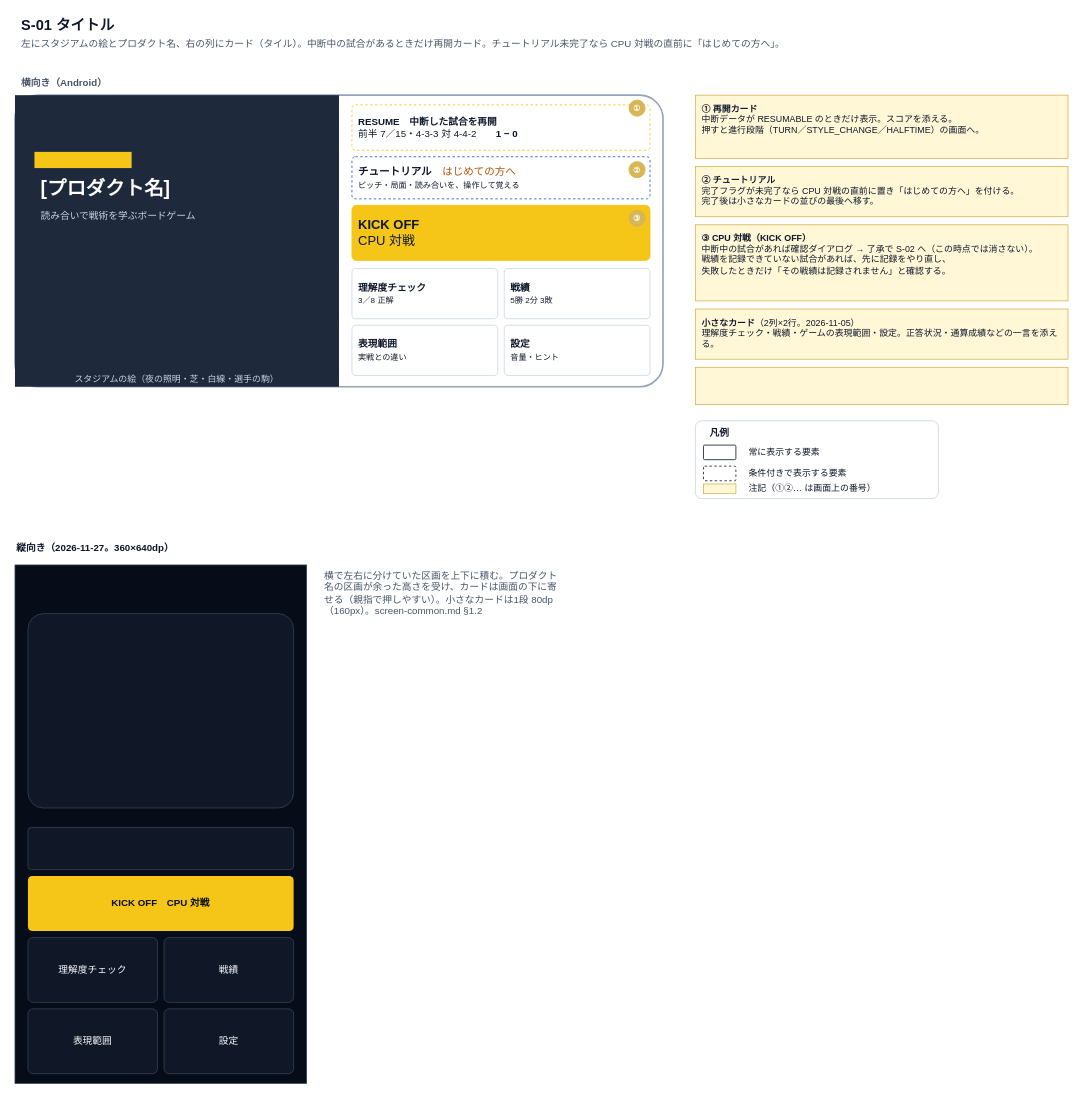
This 1082x1098 diagram has some shape labels left out. The centre of each missing label's shape, as x and y in pixels:
"MATCHDAY TACTICS" belongs at point (82, 159).
"MATCHDAY TACTICS SOCCER GAME 読み合いで戦術を学ぶボードゲーム （余った高さを受ける）" belongs at point (160, 710).
"チュートリアル はじめての方へ" belongs at point (160, 848).
"起動画面 起動時の読み込み中だけ、ロゴのみの画面を出してからこの画面へ。" belongs at point (881, 386).
